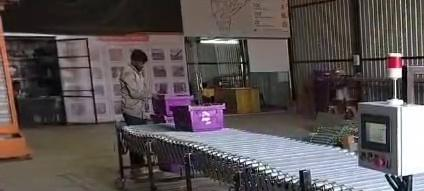box: (173, 104, 225, 131)
